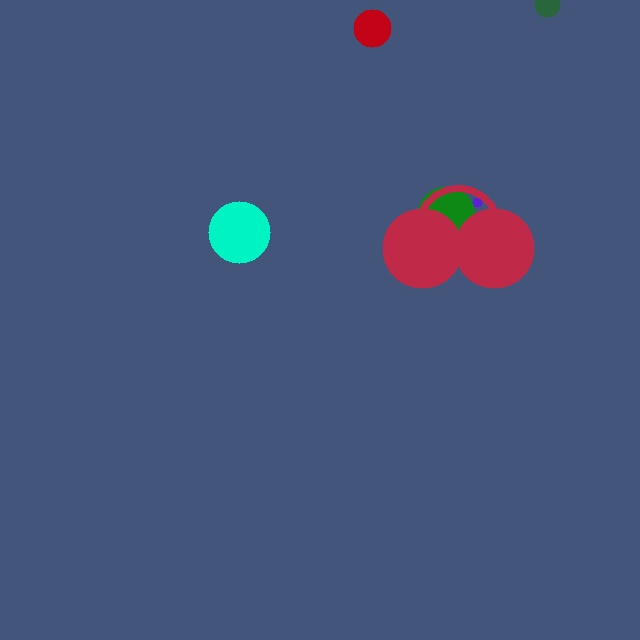over_ear: (378, 182, 538, 292)
